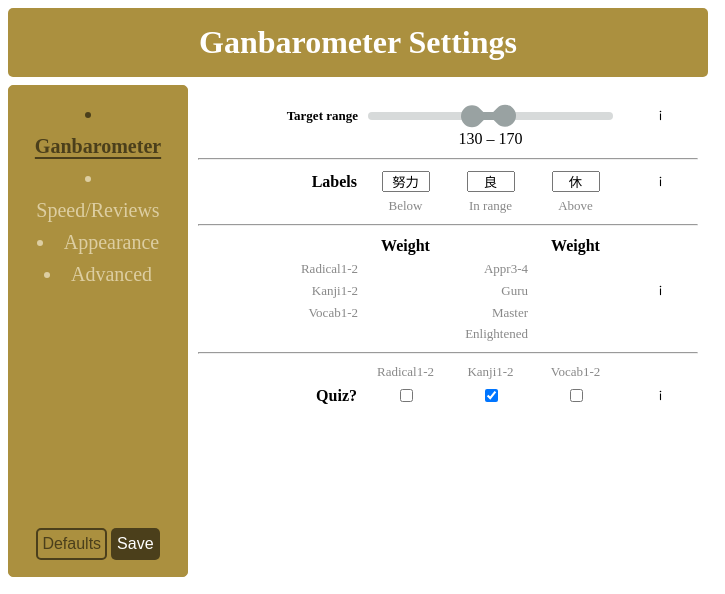
Settings Form › Renders the Speed/Reviews dialog when clicked › has a slider for 'Reviews to examine'
Click the list item "Speed/Reviews" at (98, 210), box [36, 199, 160, 221]
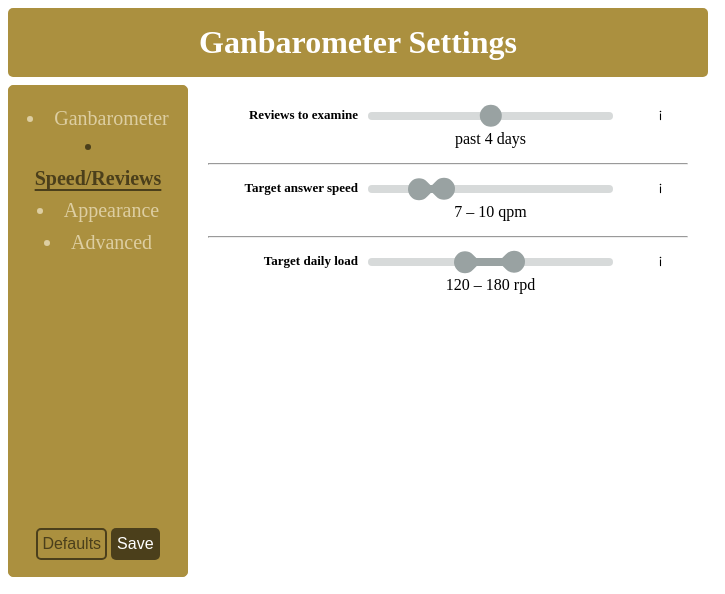
Result: the heading "Reviews to examine" is shown at [249, 107, 358, 122]
